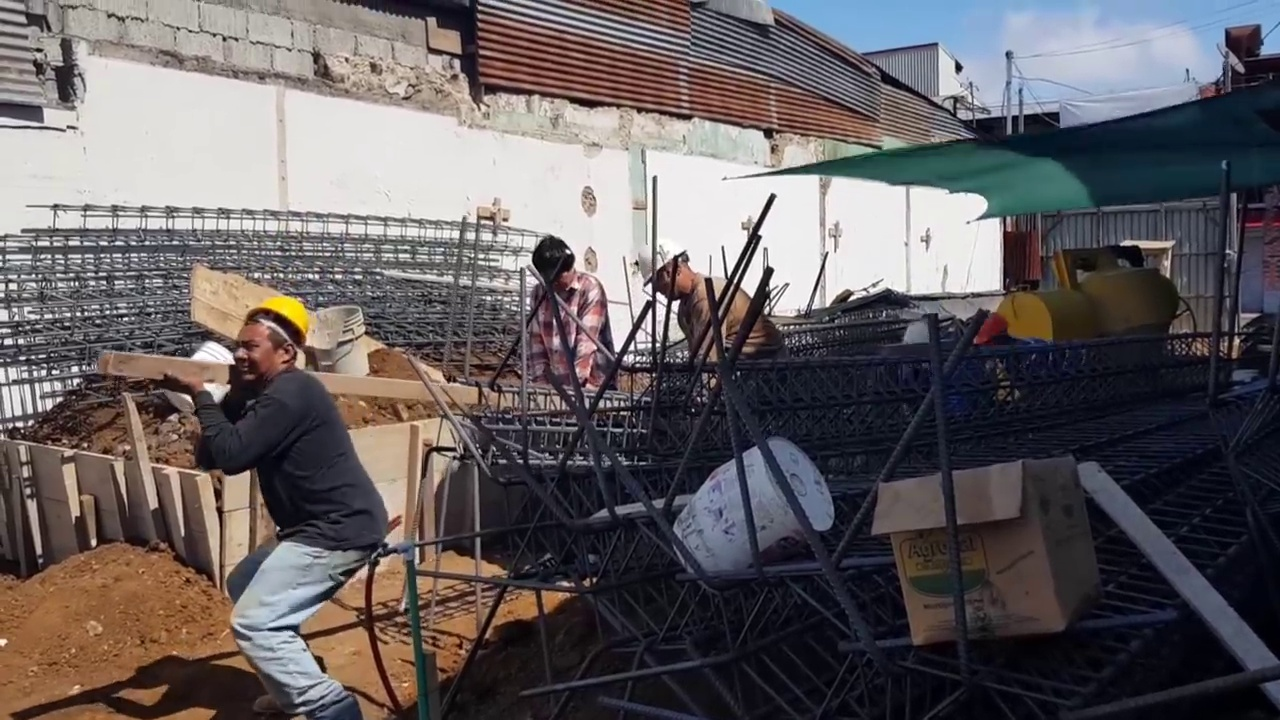helmet: (236, 288, 313, 356), (633, 245, 694, 284)
helmet-off: (526, 231, 571, 294)
helmet-on: (222, 295, 308, 393), (631, 242, 705, 309)
person: (311, 219, 529, 707), (153, 287, 388, 720), (622, 233, 774, 355), (522, 231, 613, 397)
